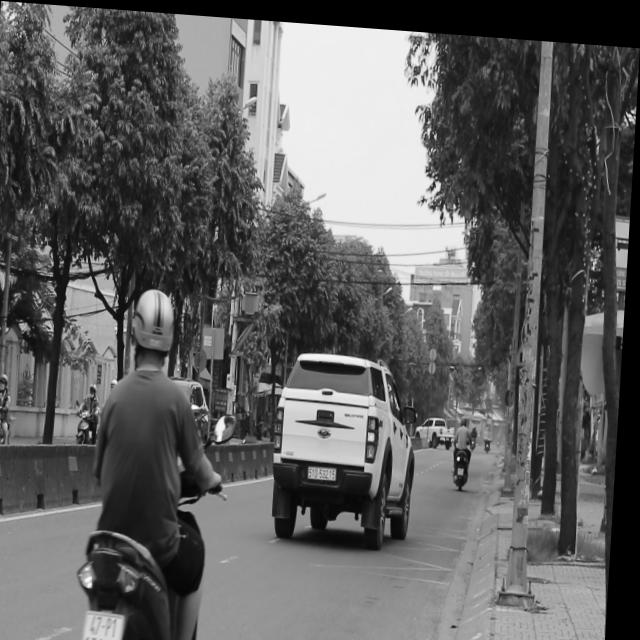helmet: (130, 281, 180, 364)
licenseplate: (78, 279, 239, 640)
nohelmet: (88, 607, 131, 640)
